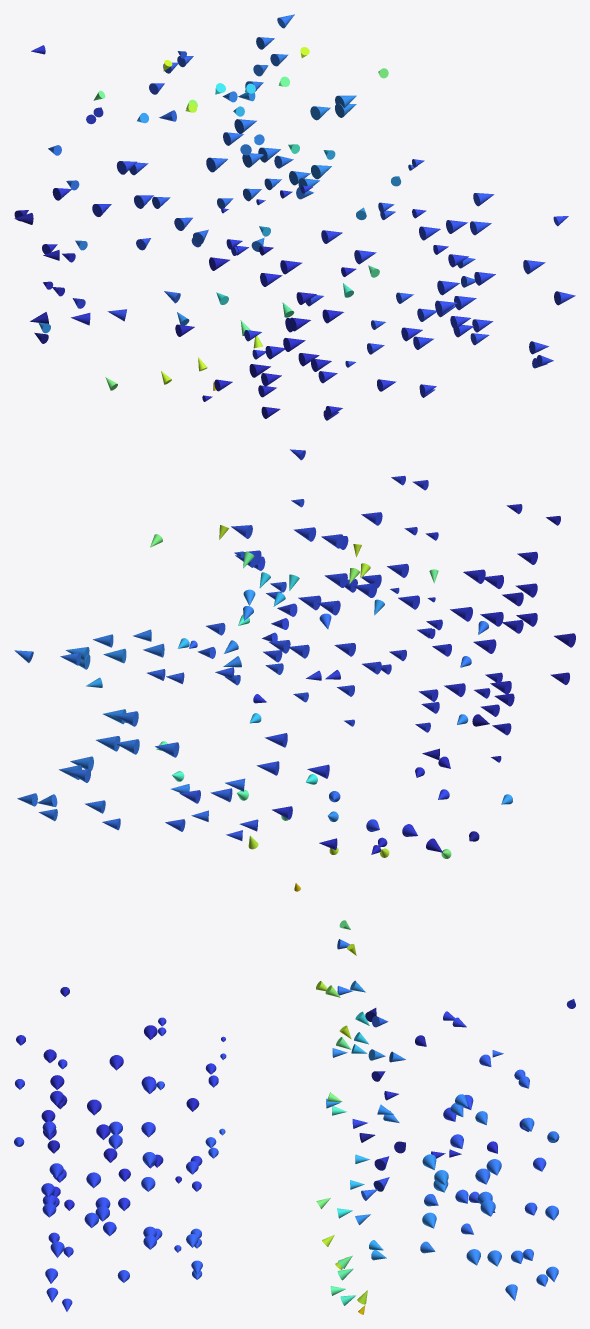
File: LineasCorrienteN2-H2O_mh2-5.58_V-1.1.glb
3 views of the same model, one above another, from view 1: azimuth 30°, elevation 25°; view 2: azimuth 150°, elevation 25°; view 3: azimuth 270°, elevation 25° (orthographic). The views are drawn at different scales.
Size of the model in its own units: 0.000991 by 0.000819 by 0.00121.
Materials: 2 (2 with a texture image).
